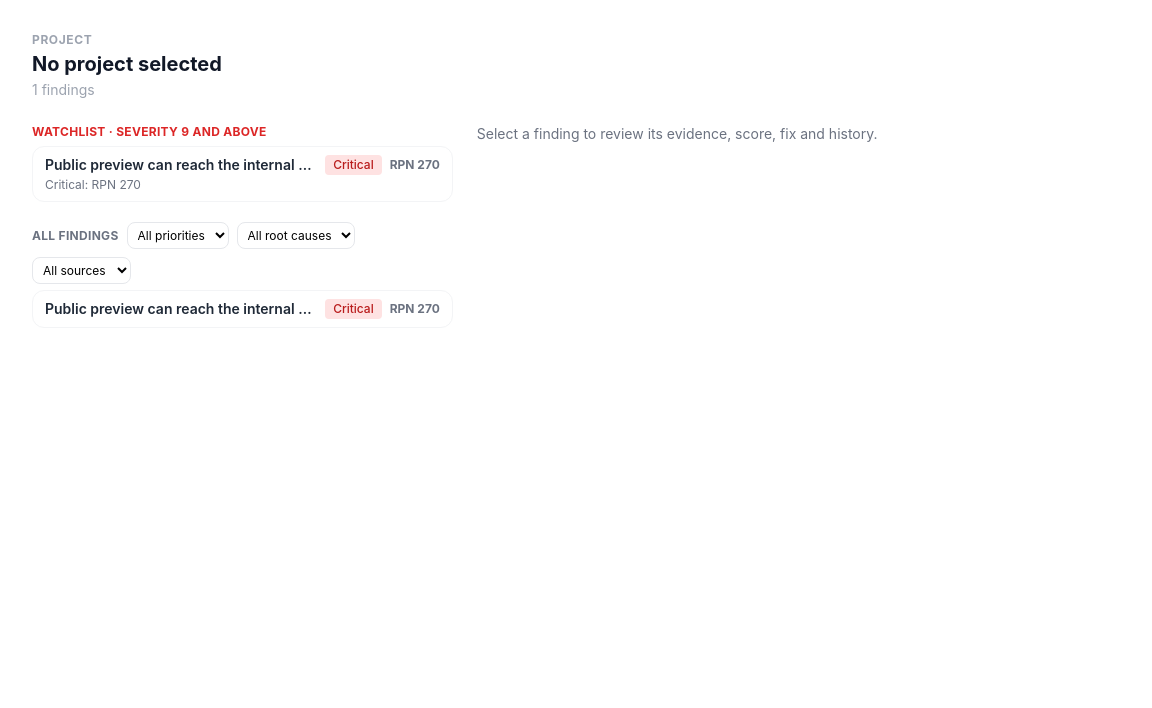
exploit paths across components › shows each step of the path in order with its file, lines, action and code
Click the button "Public preview can reach the internal admin service". click: (242, 174)
box: [32,146,453,202]
(page scrolled)
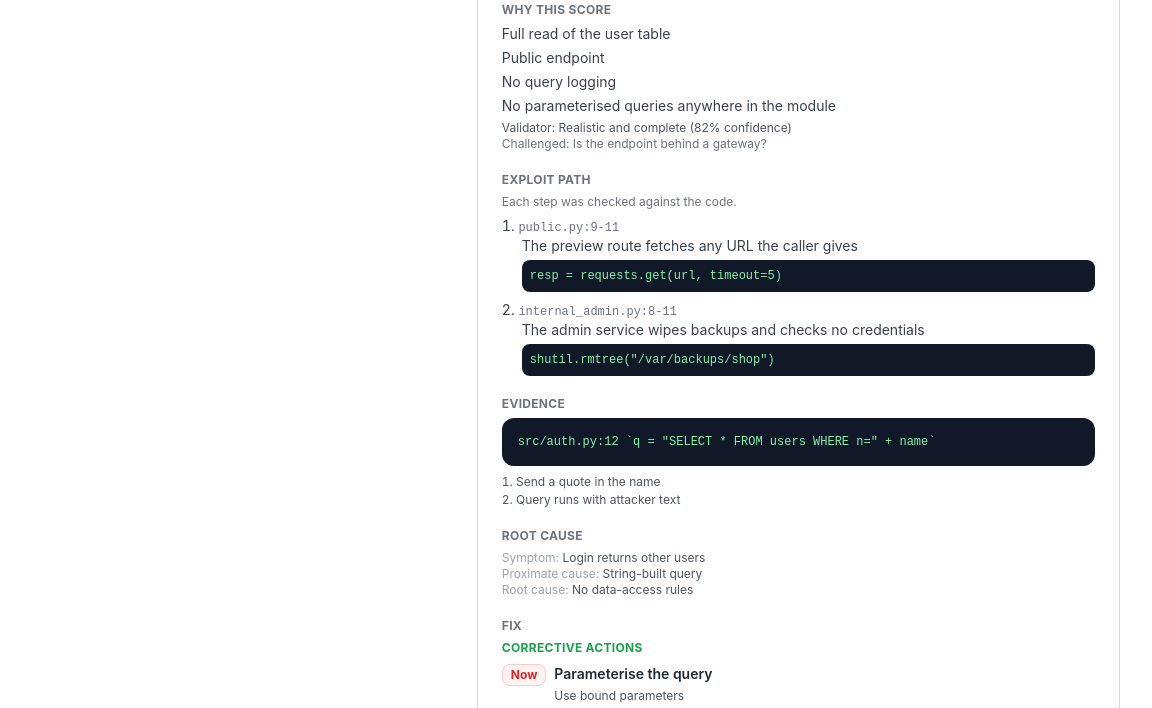
Expected: the heading "Exploit path" is shown, [502,172,591,187]
Expected: the text "Each step was checked against the code." is shown, [502,194,737,209]
Expected: the text "shutil.rmtree(\"/var/backups/shop\")" is shown, [522,344,1095,376]
